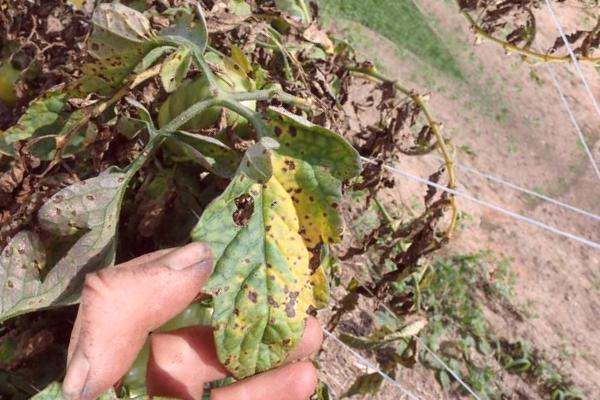Tomato Septoria leaf spot: (121, 85, 427, 395), (43, 0, 184, 124), (39, 149, 156, 267)
